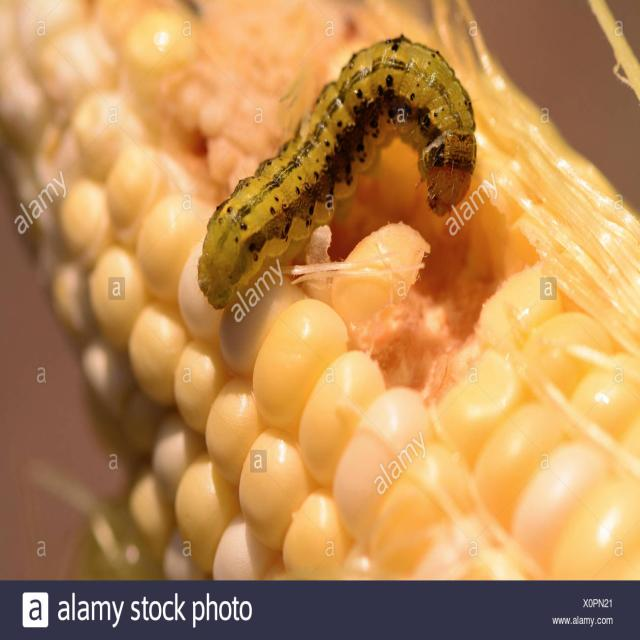worm: (197, 33, 478, 312)
